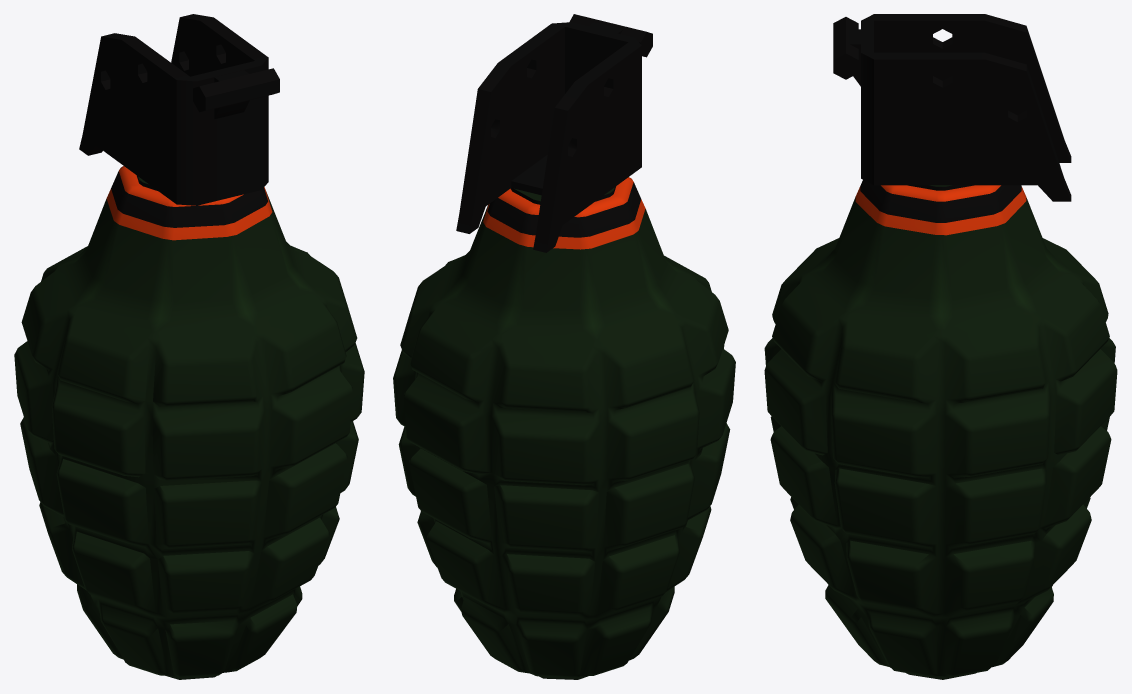
Rendered from fraggrenade_w_no_clip.fbx.
3 views of the same model, side by side, from view 1: azimuth 30°, elevation 25°; view 2: azimuth 150°, elevation 25°; view 3: azimuth 270°, elevation 25° (orthographic). The views are drawn at different scales.
Visible parts, largest first — view 1: pTorus3; view 2: pTorus3; view 3: pTorus3.
Part boxes in pixels (left/top/right/bottom): pTorus3: left=14, top=14, right=364, bottom=679; pTorus3: left=393, top=14, right=735, bottom=679; pTorus3: left=764, top=14, right=1117, bottom=679.
Bounding box in the file's own units: 5.21 × 10.28 × 5.26.
